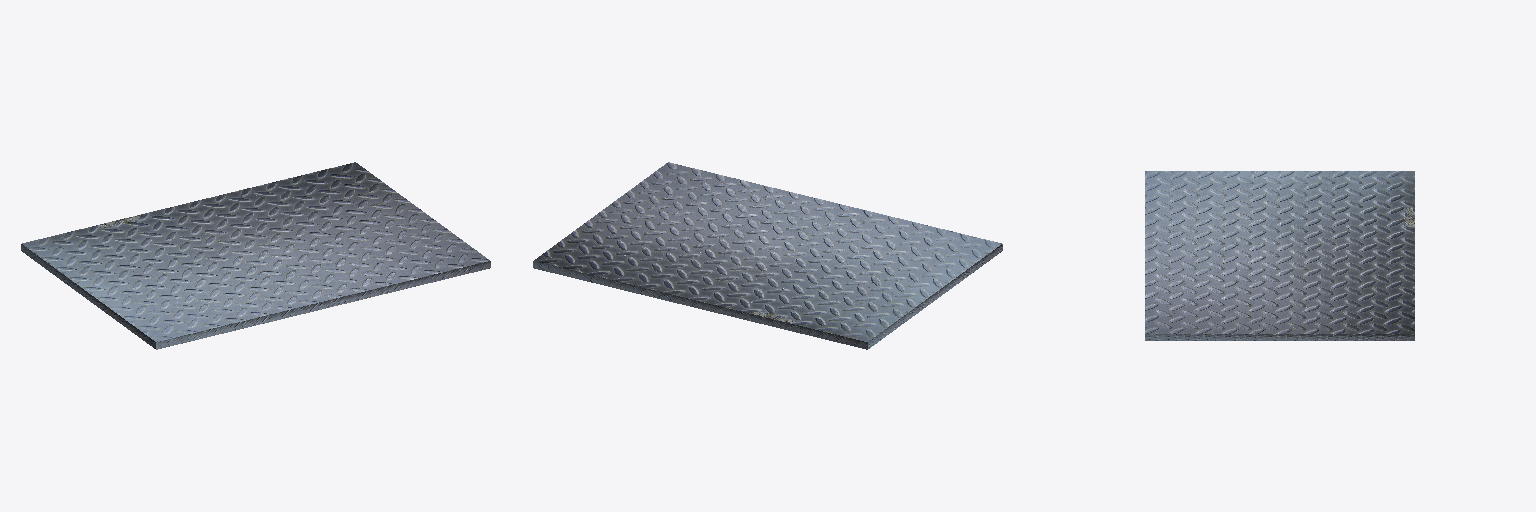
3 renders of one model, left to right at view 1: azimuth 30°, elevation 25°; view 2: azimuth 150°, elevation 25°; view 3: azimuth 270°, elevation 25°, orthographic.
Size of the model in its own units: 16.64 by 0.3594 by 11.62.
1 materials, 1 textured.